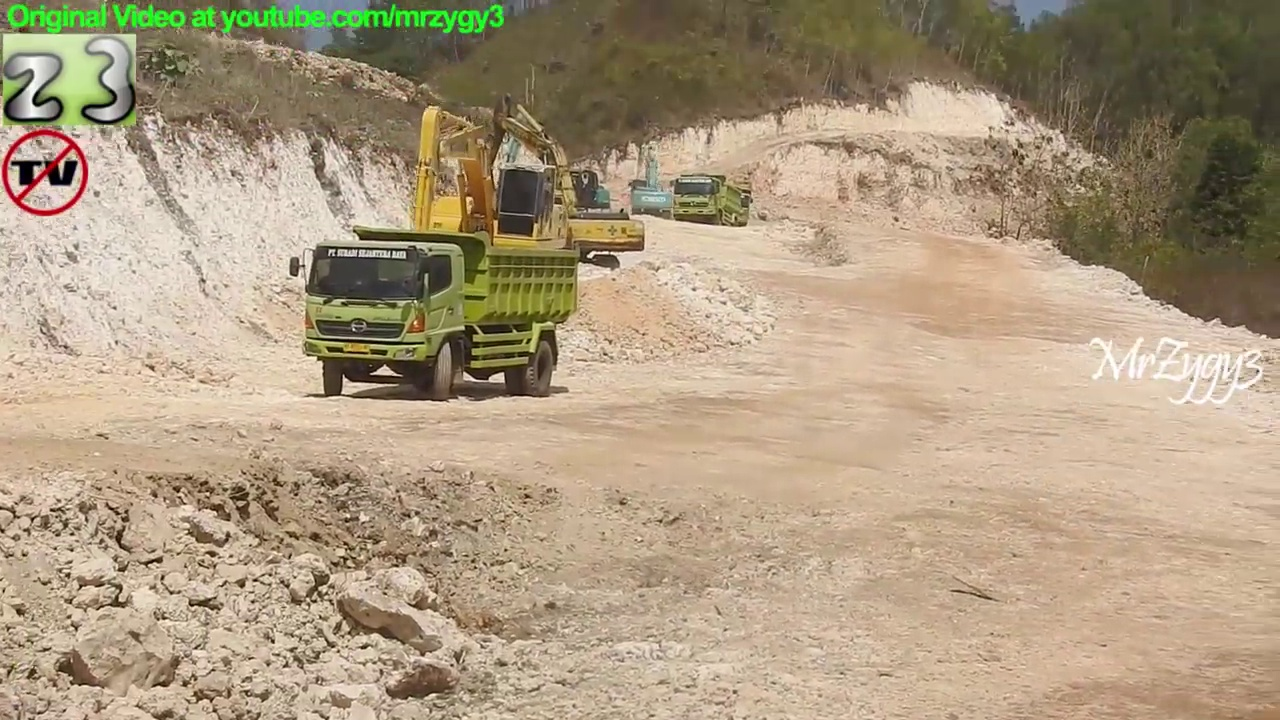excavator: (369, 106, 582, 306), (467, 92, 651, 275), (496, 114, 617, 230), (626, 141, 678, 224)
truck: (286, 223, 584, 402), (669, 172, 747, 234), (709, 178, 755, 227)
